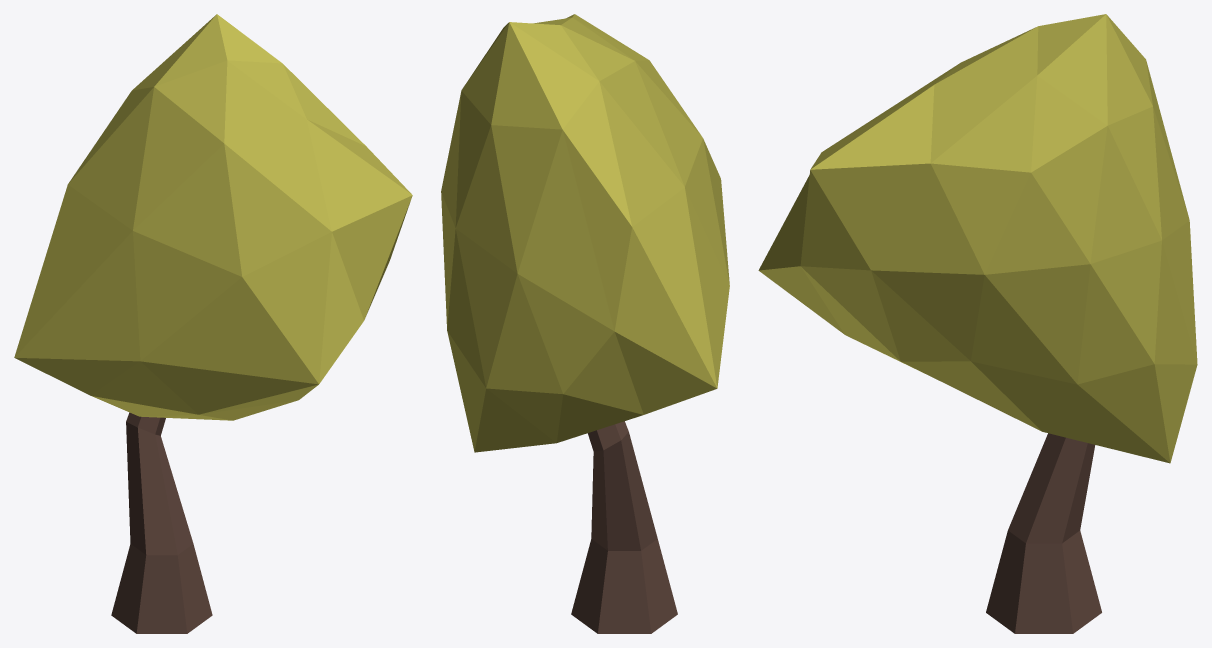
File: Tree1.fbx
3 views of the same model, side by side, from view 1: azimuth 30°, elevation 25°; view 2: azimuth 150°, elevation 25°; view 3: azimuth 270°, elevation 25° (orthographic). The views are drawn at different scales.
Visible parts, largest first — view 1: Cylinder.005; view 2: Cylinder.005; view 3: Cylinder.005.
Part boxes in pixels (left/top/right/bottom): Cylinder.005: left=14, top=14, right=412, bottom=633; Cylinder.005: left=441, top=14, right=729, bottom=633; Cylinder.005: left=758, top=14, right=1197, bottom=633.
Bounding box in the file's own units: 315 × 589 × 364.
